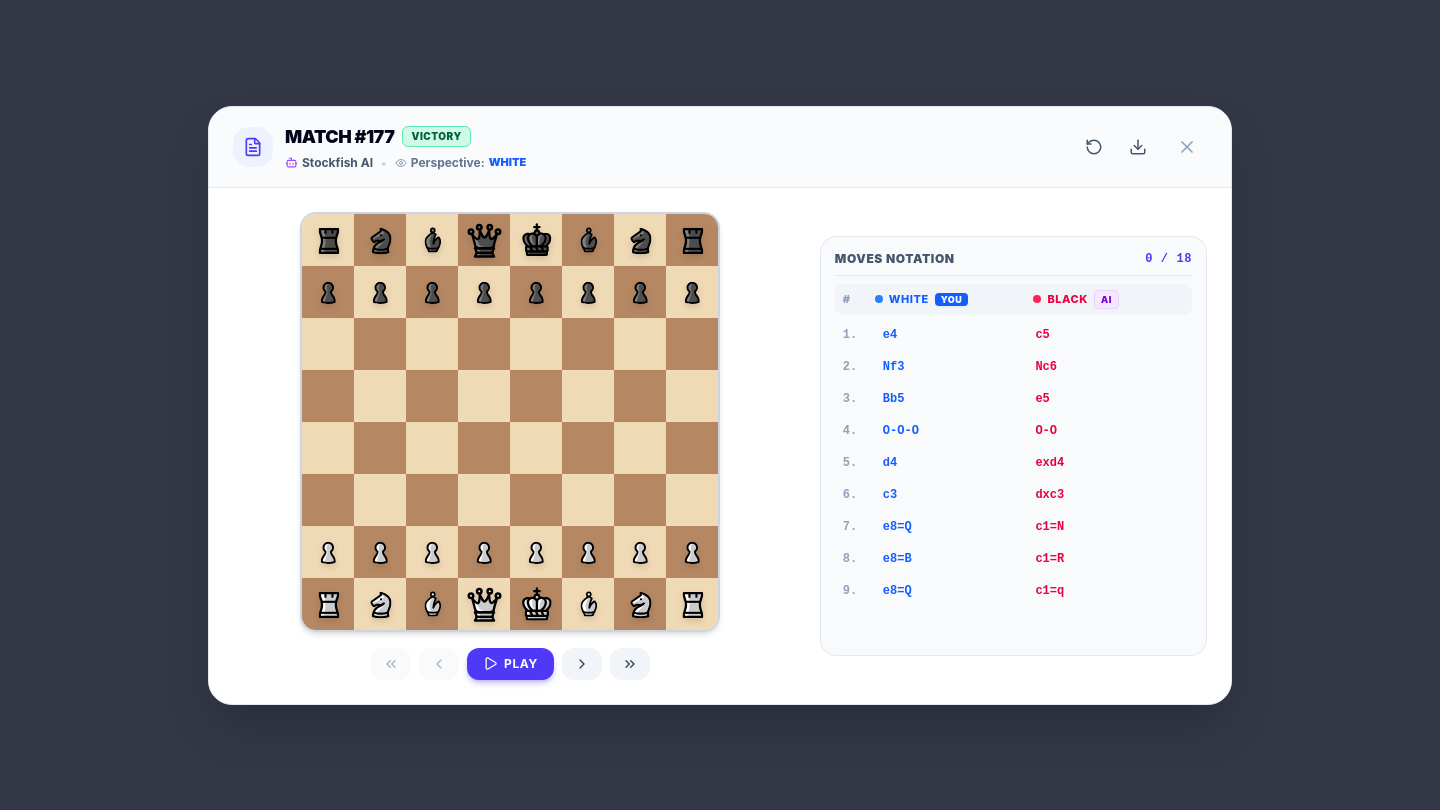
MatchReplayModal Component › jumps directly to a step when clicking on a move in the notation list
The image size is (1440, 810).
Click the button "e4" at (951, 335), box [875,325,1027,345]
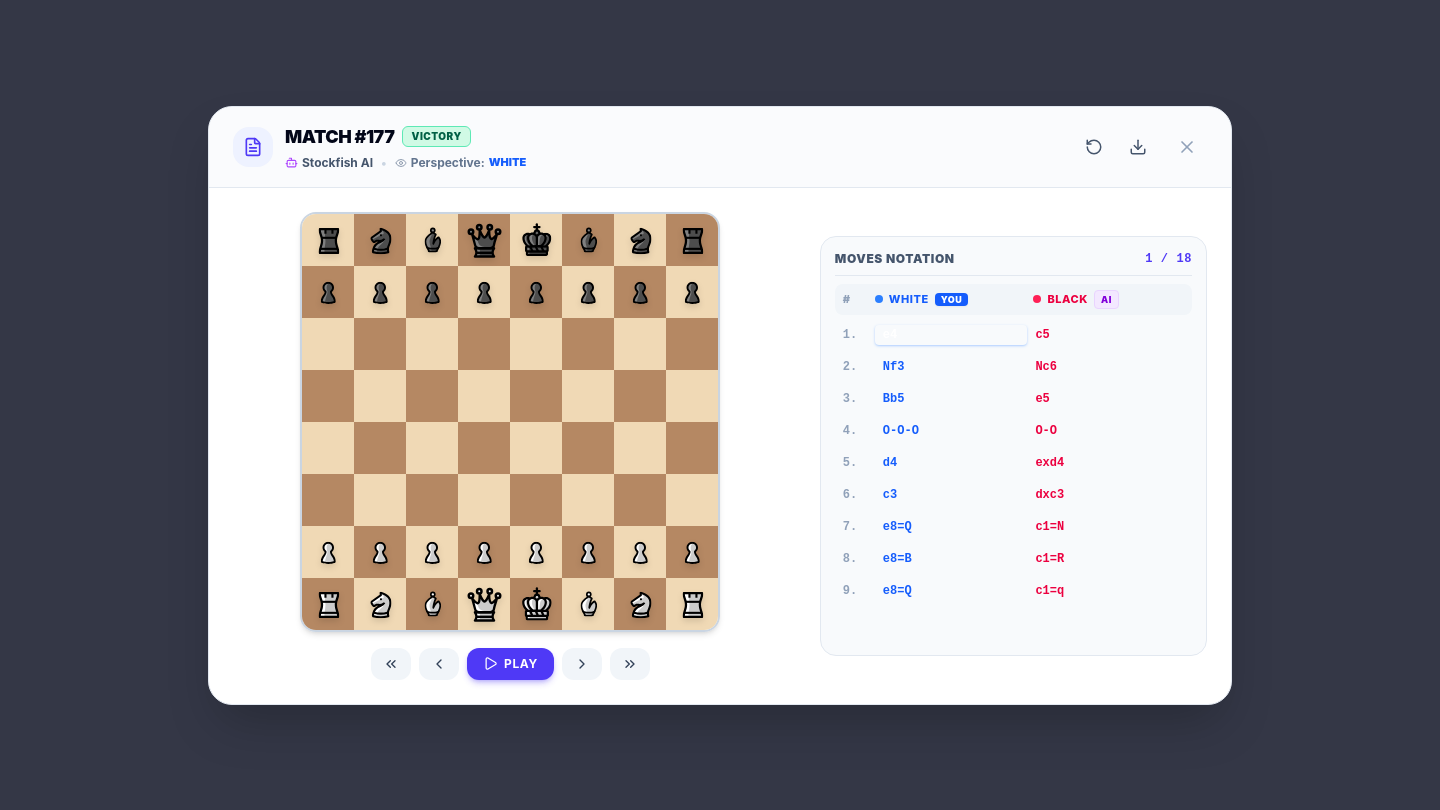
Expected: the text "1 / 18" is shown, [1145,250,1192,266]
